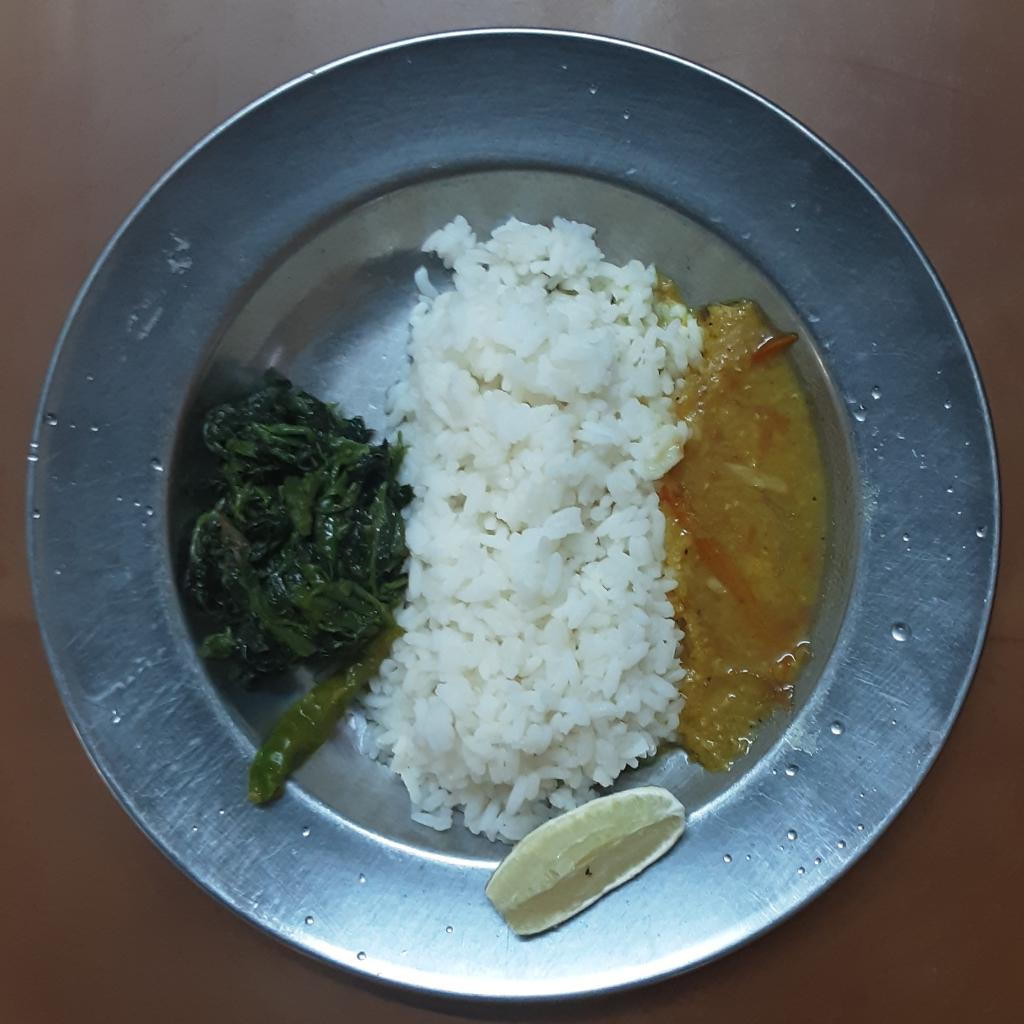daal: (659, 302, 834, 779)
lemon: (486, 782, 686, 935)
rice: (354, 213, 707, 839)
shak: (181, 364, 405, 806)
